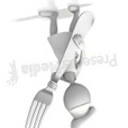fork: (19, 12, 96, 128)
